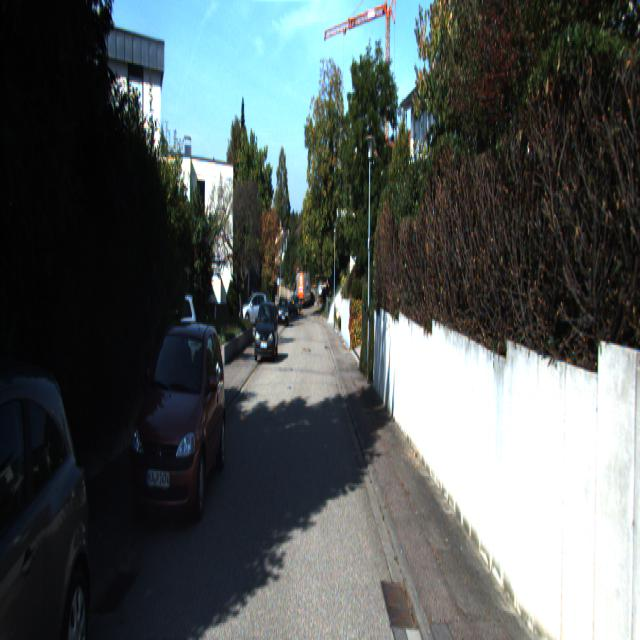Car: (0, 362, 94, 638), (125, 316, 228, 532), (253, 300, 280, 362)
